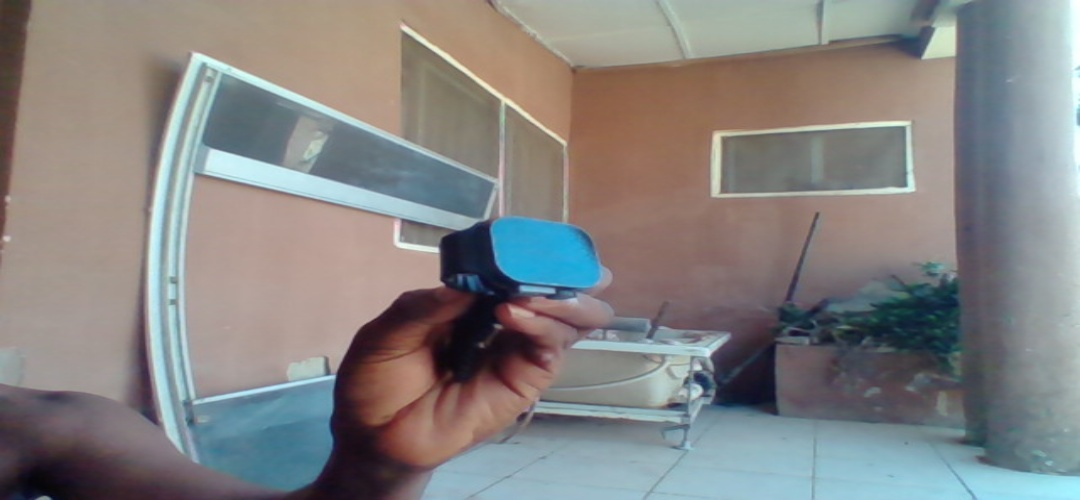smart_watch: (434, 216, 606, 303)
